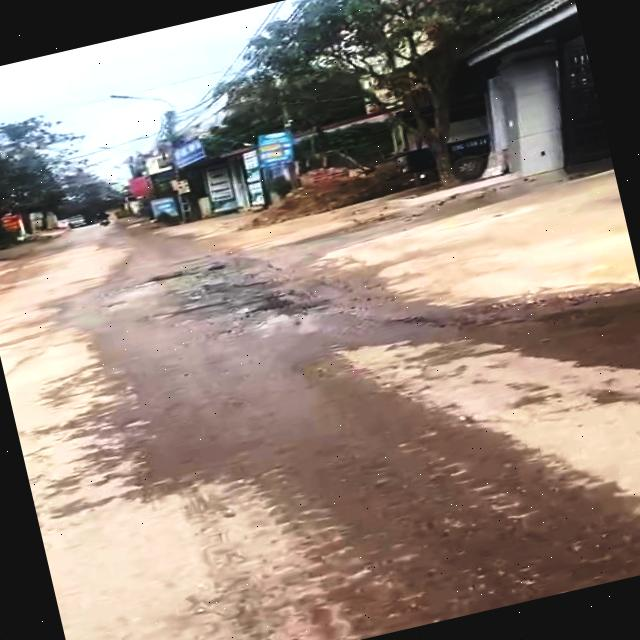pothole: (216, 274, 327, 341)
